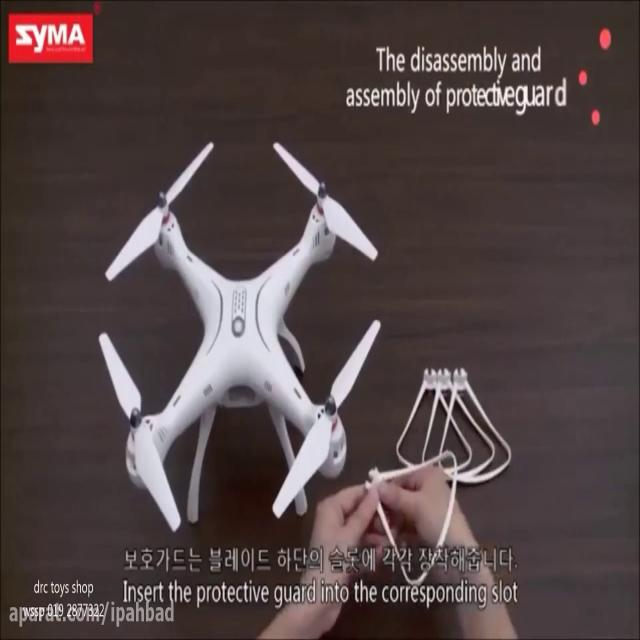drone: (96, 140, 383, 534)
